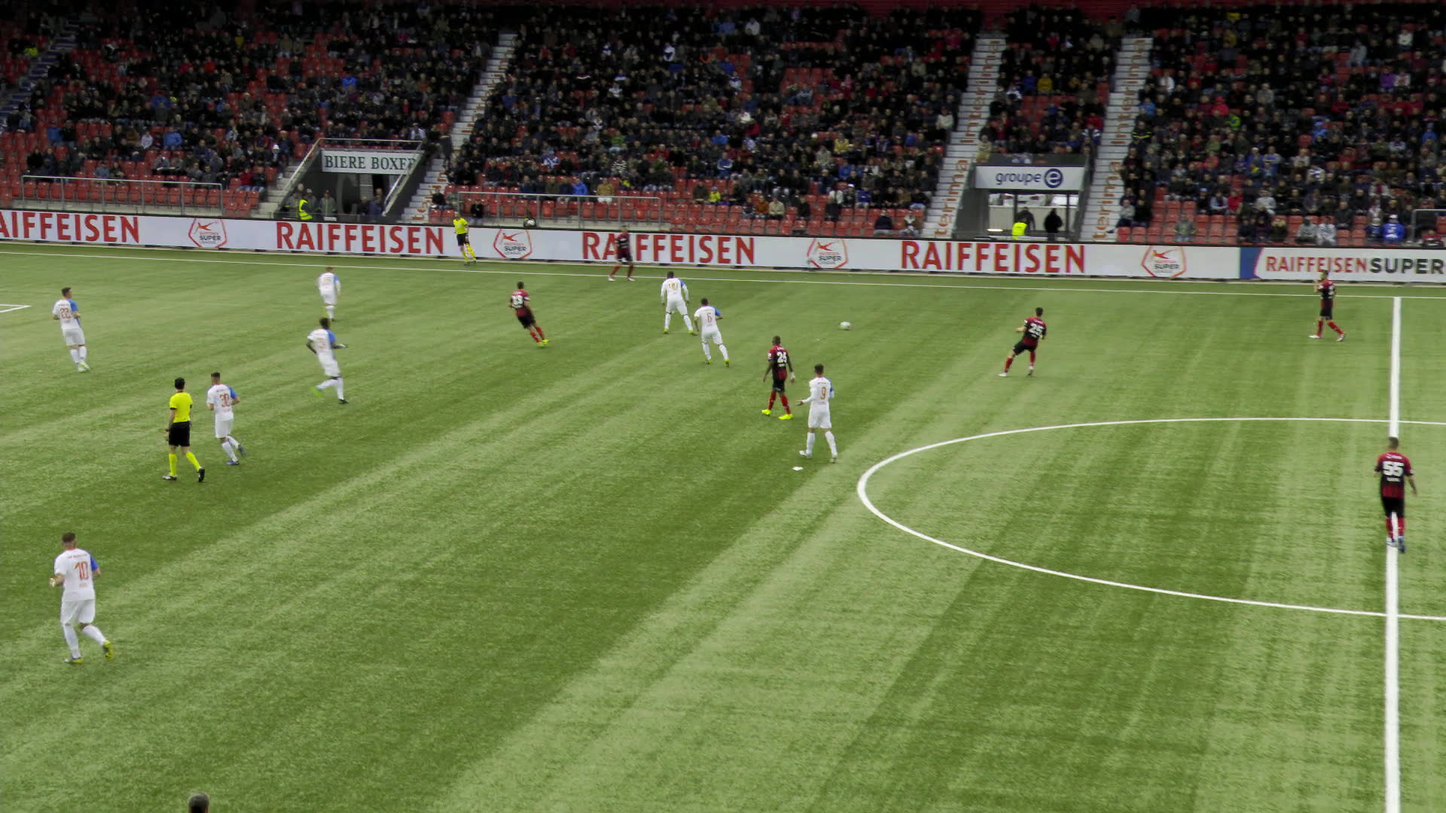ball: (847, 322, 856, 330)
player: (53, 525, 111, 666), (1368, 436, 1412, 550), (207, 370, 253, 463), (299, 312, 346, 401), (793, 362, 834, 461), (996, 303, 1046, 376), (50, 286, 84, 372), (501, 277, 541, 346), (762, 333, 792, 418), (1304, 267, 1338, 339), (690, 298, 725, 365), (657, 269, 687, 333), (603, 224, 633, 280), (310, 263, 337, 320), (185, 790, 212, 812)
referee: (158, 376, 202, 480), (450, 211, 477, 264)
